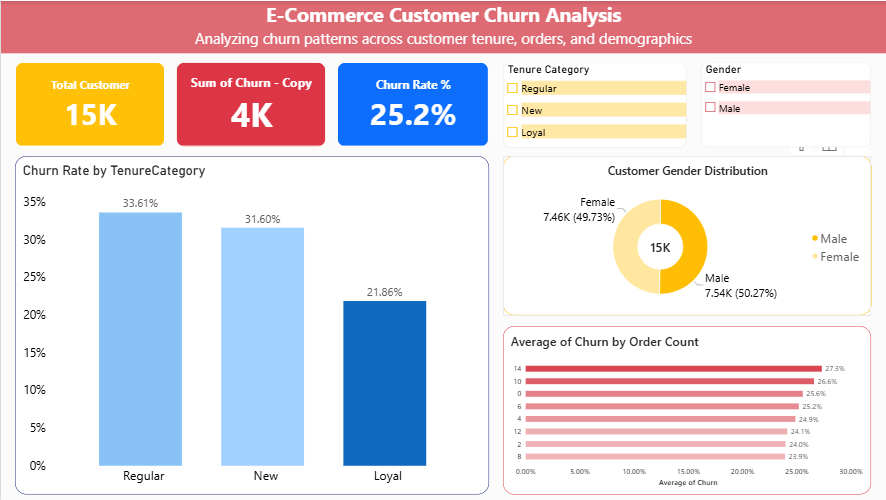

This screenshot's page, from the dashboard's own definition file:
{"tool":"powerbi","page":{"name":"Page 1","canvas":[1920,1080],"ordinal":0},"visuals":[{"type":"clusteredColumnChart","fields":{"Category":["ecommerce_churn_cleaned_final.TenureCategory"],"Y":["ecommerce_churn_cleaned_final.Churn Rate"]},"box":[31.1,335.6,1024.4,731.1],"z":0},{"type":"donutChart","title":"Customer Gender Distribution","fields":{"Category":["ecommerce_churn_cleaned_final.Gender"],"Y":["CountNonNull(ecommerce_churn_cleaned_final.CustomerID)"]},"box":[1084.4,335.6,795.6,344.4],"z":1000},{"type":"slicer","fields":{"Values":["ecommerce_churn_cleaned_final.TenureCategory"]},"box":[1084.3,130.7,397.3,184.6],"z":2000},{"type":"shape","box":[0,0,1920,113.3],"z":3000},{"type":"cardVisual","fields":{"Data":["ecommerce_churn_cleaned_final.Churn Rate %"]},"box":[725.8,131.8,328.3,183.6],"z":4000},{"type":"slicer","fields":{"Values":["ecommerce_churn_cleaned_final.Gender"]},"box":[1512,131.8,367.2,183.6],"z":5000},{"type":"cardVisual","fields":{"Data":["Sum(ecommerce_churn_cleaned_final.Churn)"]},"box":[378,131.8,324,183.6],"z":6000},{"type":"cardVisual","fields":{"Data":["Count(ecommerce_churn_cleaned_final.CustomerID)"]},"box":[30.2,131.8,324,183.6],"z":7000},{"type":"barChart","title":"Average of Churn by Order Count ","fields":{"Category":["ecommerce_churn_cleaned_final.OrderCount 2"],"Y":["Avg(ecommerce_churn_cleaned_final.Churn)"]},"box":[1084.3,702.4,794.7,364],"z":8000},{"type":"textbox","box":[0,0,1920,112.8],"z":9000}]}

Visuals, with their boxes in screenshot pixels (x1, y1, x2, y2), scaled from the page's 1920x1080 canvas onto the 886x500 screenshot:
clusteredColumnChart - ecommerce_churn_cleaned_final.TenureCategory x ecommerce_churn_cleaned_final.Churn Rate: detection(14, 155, 487, 494)
"Customer Gender Distribution" donutChart: detection(500, 155, 868, 315)
slicer - ecommerce_churn_cleaned_final.TenureCategory: detection(500, 61, 684, 146)
shape: detection(0, 0, 885, 52)
cardVisual - ecommerce_churn_cleaned_final.Churn Rate %: detection(335, 61, 486, 146)
slicer - ecommerce_churn_cleaned_final.Gender: detection(698, 61, 867, 146)
cardVisual - Sum(ecommerce_churn_cleaned_final.Churn): detection(174, 61, 324, 146)
cardVisual - Count(ecommerce_churn_cleaned_final.CustomerID): detection(14, 61, 163, 146)
"Average of Churn by Order Count " barChart: detection(500, 325, 867, 494)
textbox: detection(0, 0, 885, 52)
